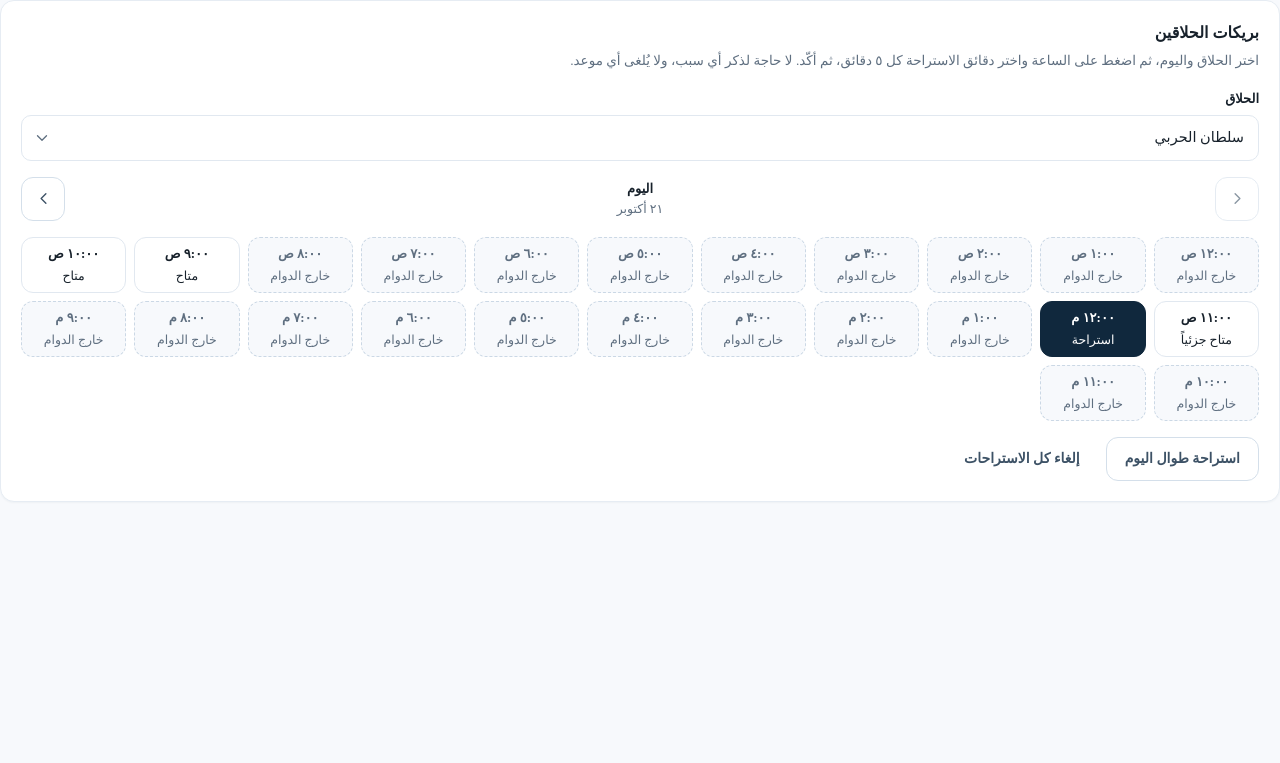
it: BarberDayCard (D-134, D-137) › cancels a break from any of its minutes after a confirmation; going back sends nothing
What coordinates should you click on to do the following:
click the button "١٢:٠٠ م استراحة"
I would click on:
 (1093, 329)
Its box is [1040,301,1146,357].
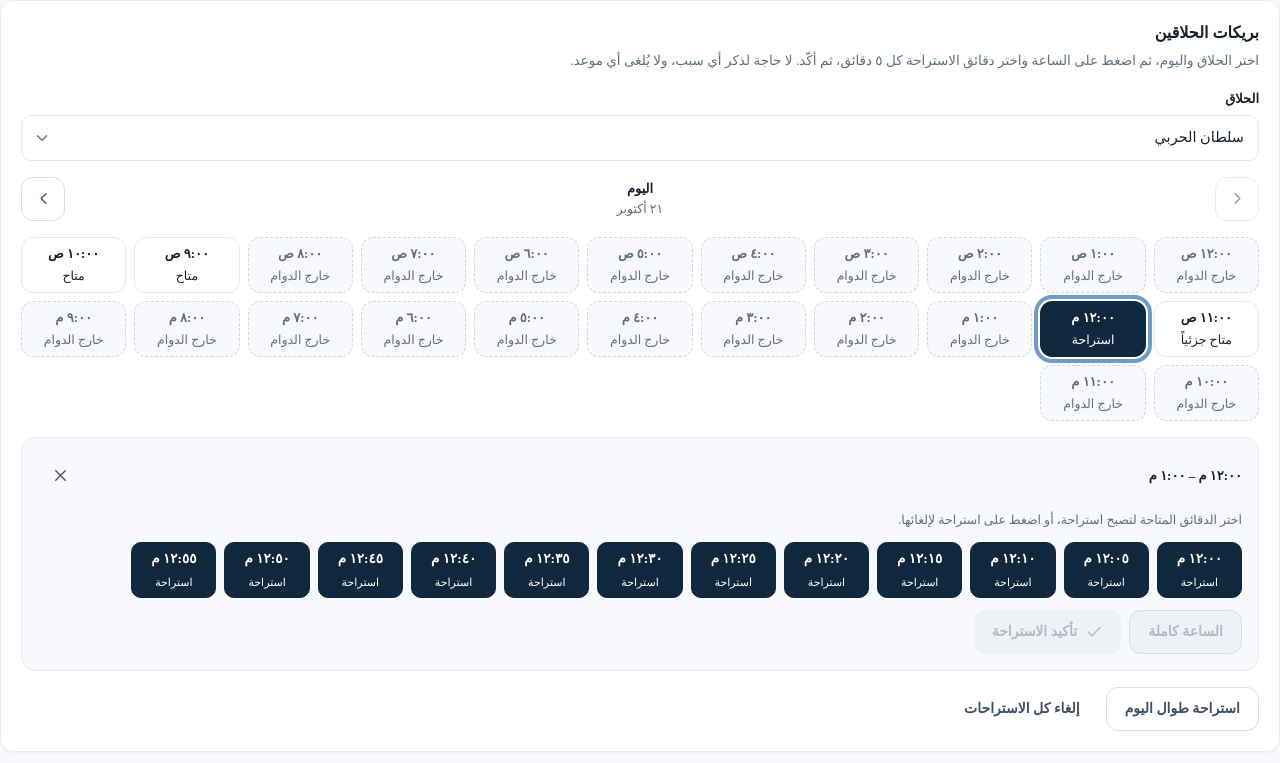
What coordinates should you click on to do the following:
click the button "١٢:١٠ م استراحة"
I would click on:
 (1013, 570)
Its box is [970,542,1056,598].
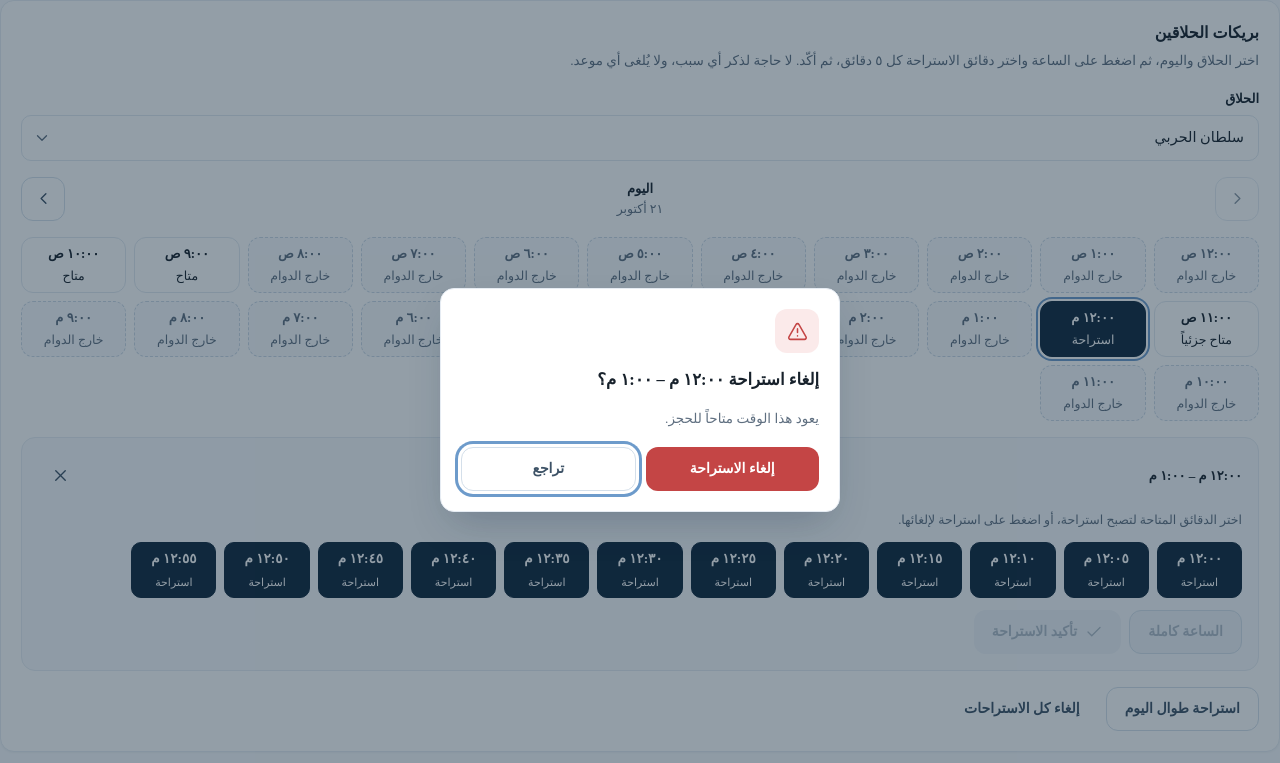
Expected: the dialog shows "إلغاء استراحة", [597,370,819,389]
What coordinates should you click on to do the following:
click the button "تراجع"
I would click on:
 (548, 469)
Its box is [461,447,636,491].
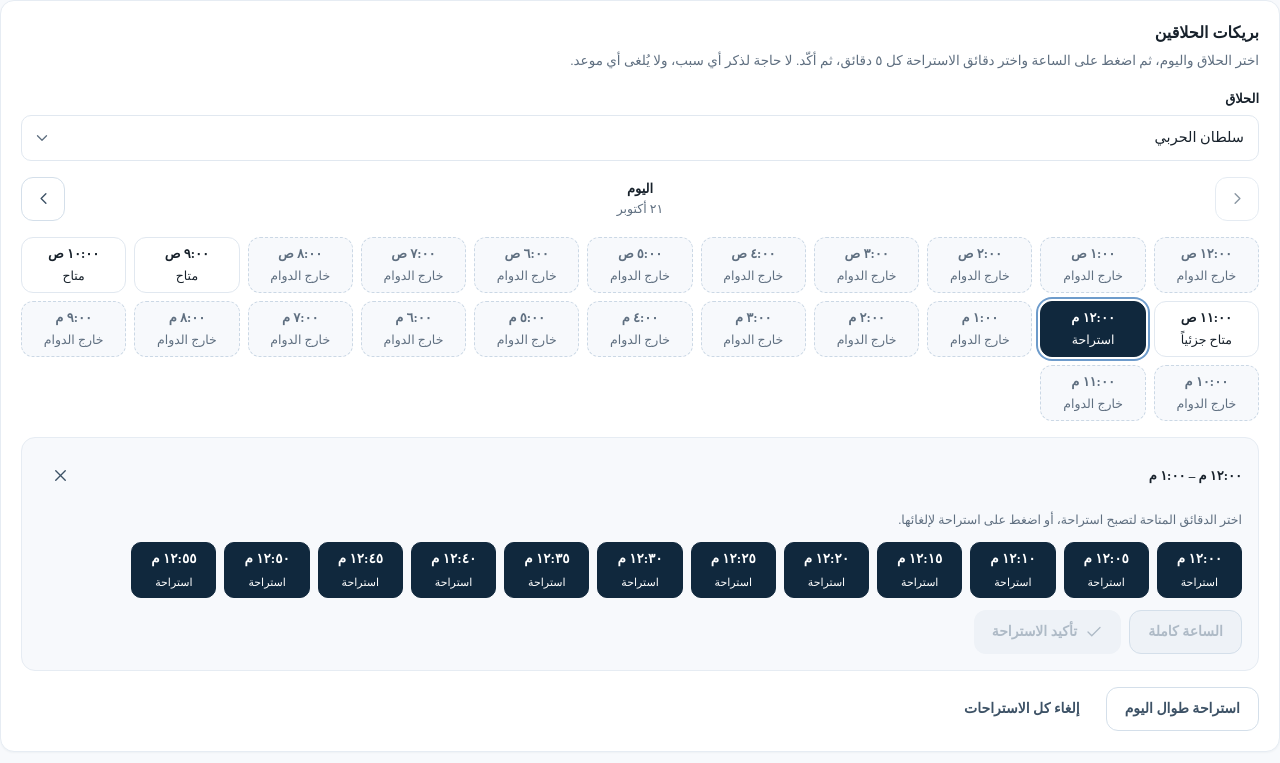
Expected: the dialog is gone
What coordinates should you click on to do the following:
click the button "١٢:١٠ م استراحة"
I would click on:
 (1013, 570)
Its box is [970,542,1056,598].
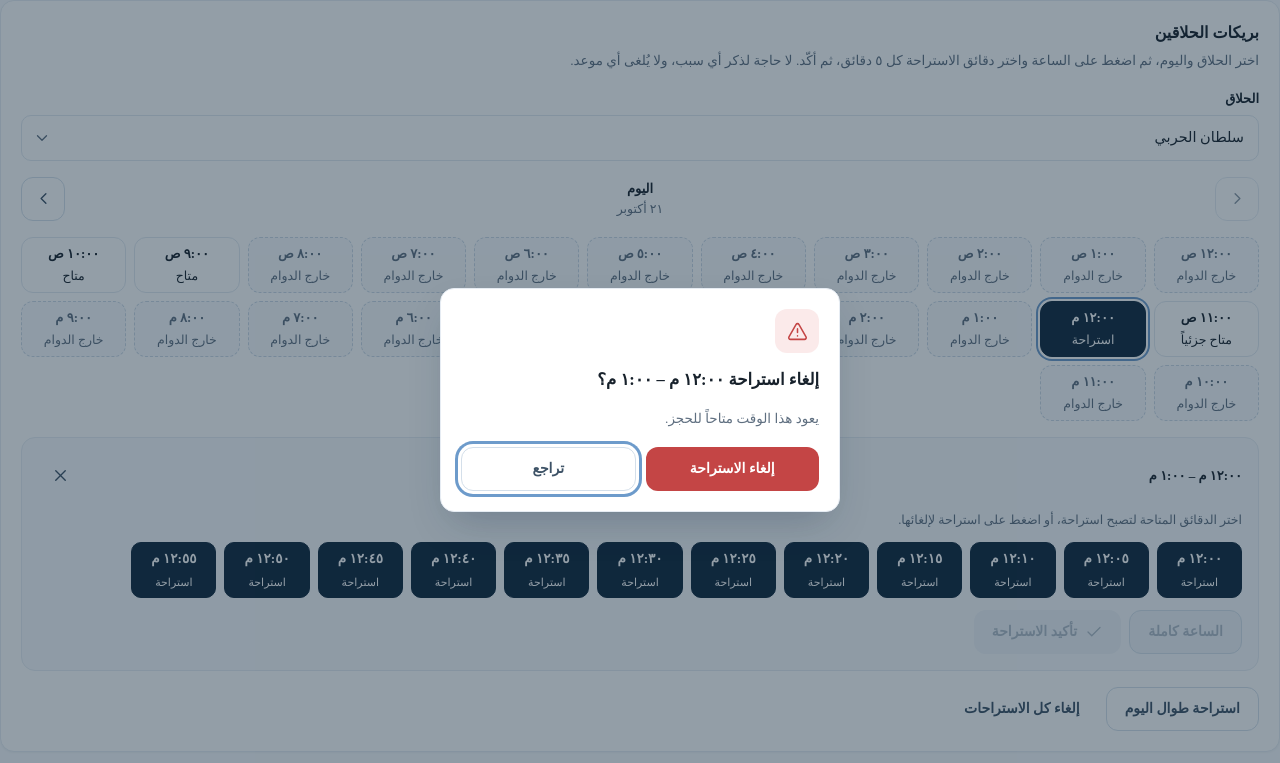
What coordinates should you click on to do the following:
click the button "إلغاء الاستراحة"
I would click on:
 (732, 469)
Its box is [646,447,819,491].
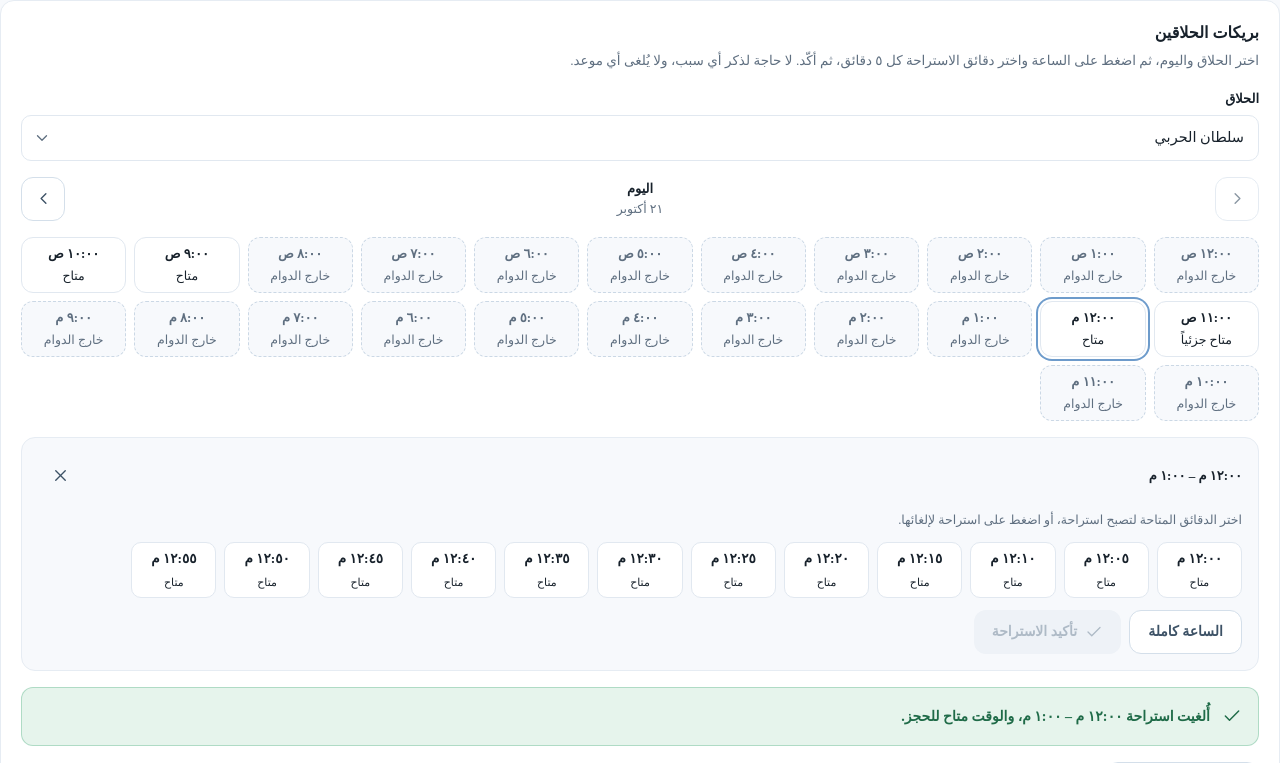
Expected: the text "أُلغيت استراحة ١٢:٠٠ م – ١:٠٠ م، والوقت متاح للحجز." is shown, [901,709,1210,724]
